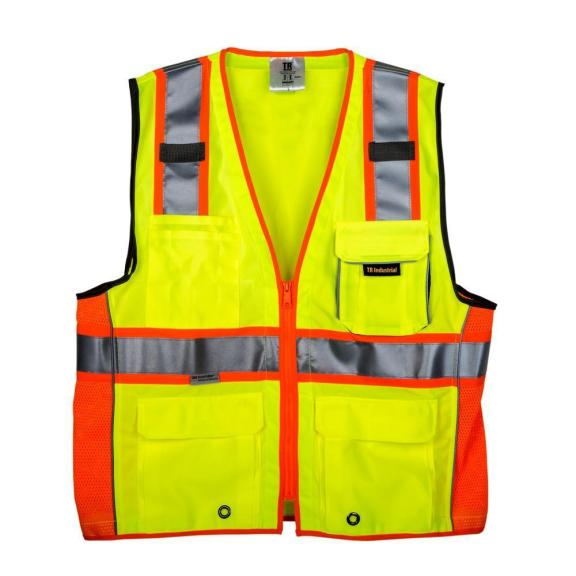safety_vest: (71, 43, 498, 540)
